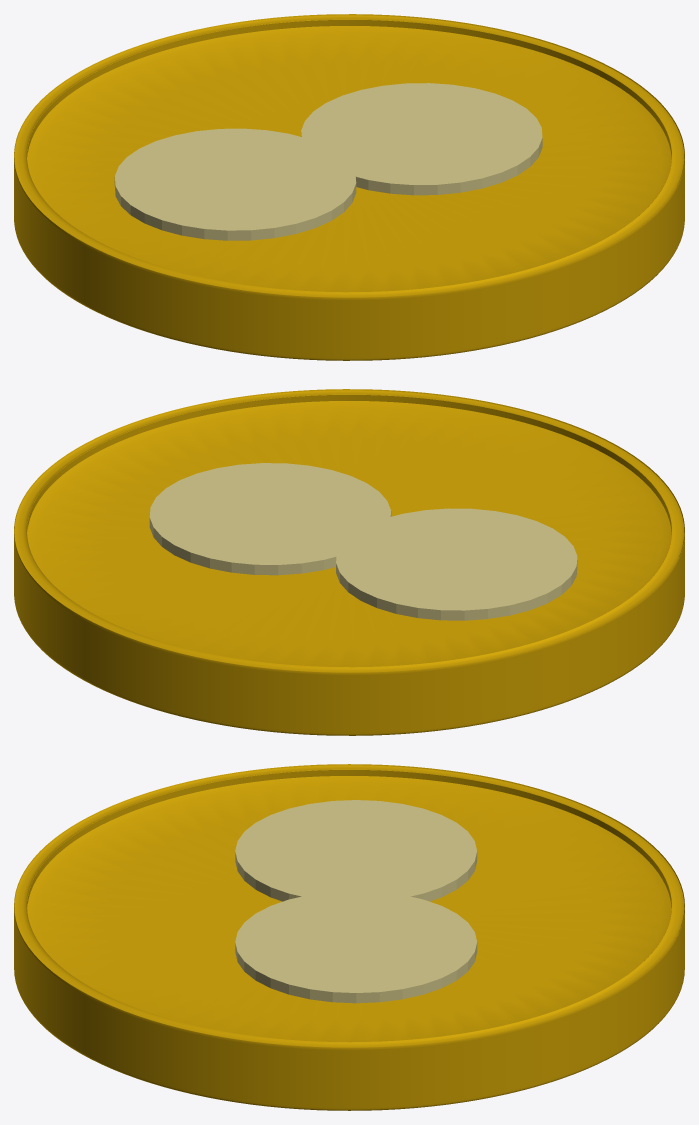
File: currencyModel.fbx
3 views of the same model, one above another, from view 1: azimuth 30°, elevation 25°; view 2: azimuth 150°, elevation 25°; view 3: azimuth 270°, elevation 25° (orthographic).
Visible parts, largest first — view 1: Cylinder, Circle, Circle.001; view 2: Cylinder, Circle, Circle.001; view 3: Cylinder, Circle.001, Circle.
Boxes of the visible parts, box(x1,y1,x2,y2) form: Cylinder: box(14, 14, 684, 360); Circle: box(114, 128, 356, 240); Circle.001: box(301, 83, 542, 195); Cylinder: box(14, 389, 684, 735); Circle: box(336, 508, 577, 620); Circle.001: box(149, 463, 391, 575); Cylinder: box(14, 764, 684, 1110); Circle.001: box(235, 891, 477, 1003); Circle: box(235, 800, 477, 901).
Size of the model in its own units: 200 by 21.22 by 200.
